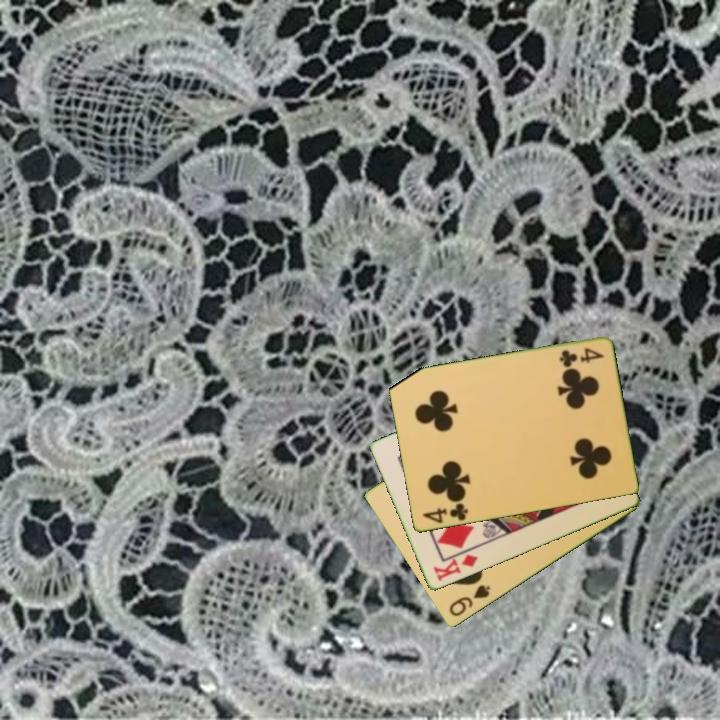4c: (419, 500, 471, 526), (555, 344, 606, 369)
9s: (445, 581, 493, 620)
Kd: (430, 551, 481, 585)
